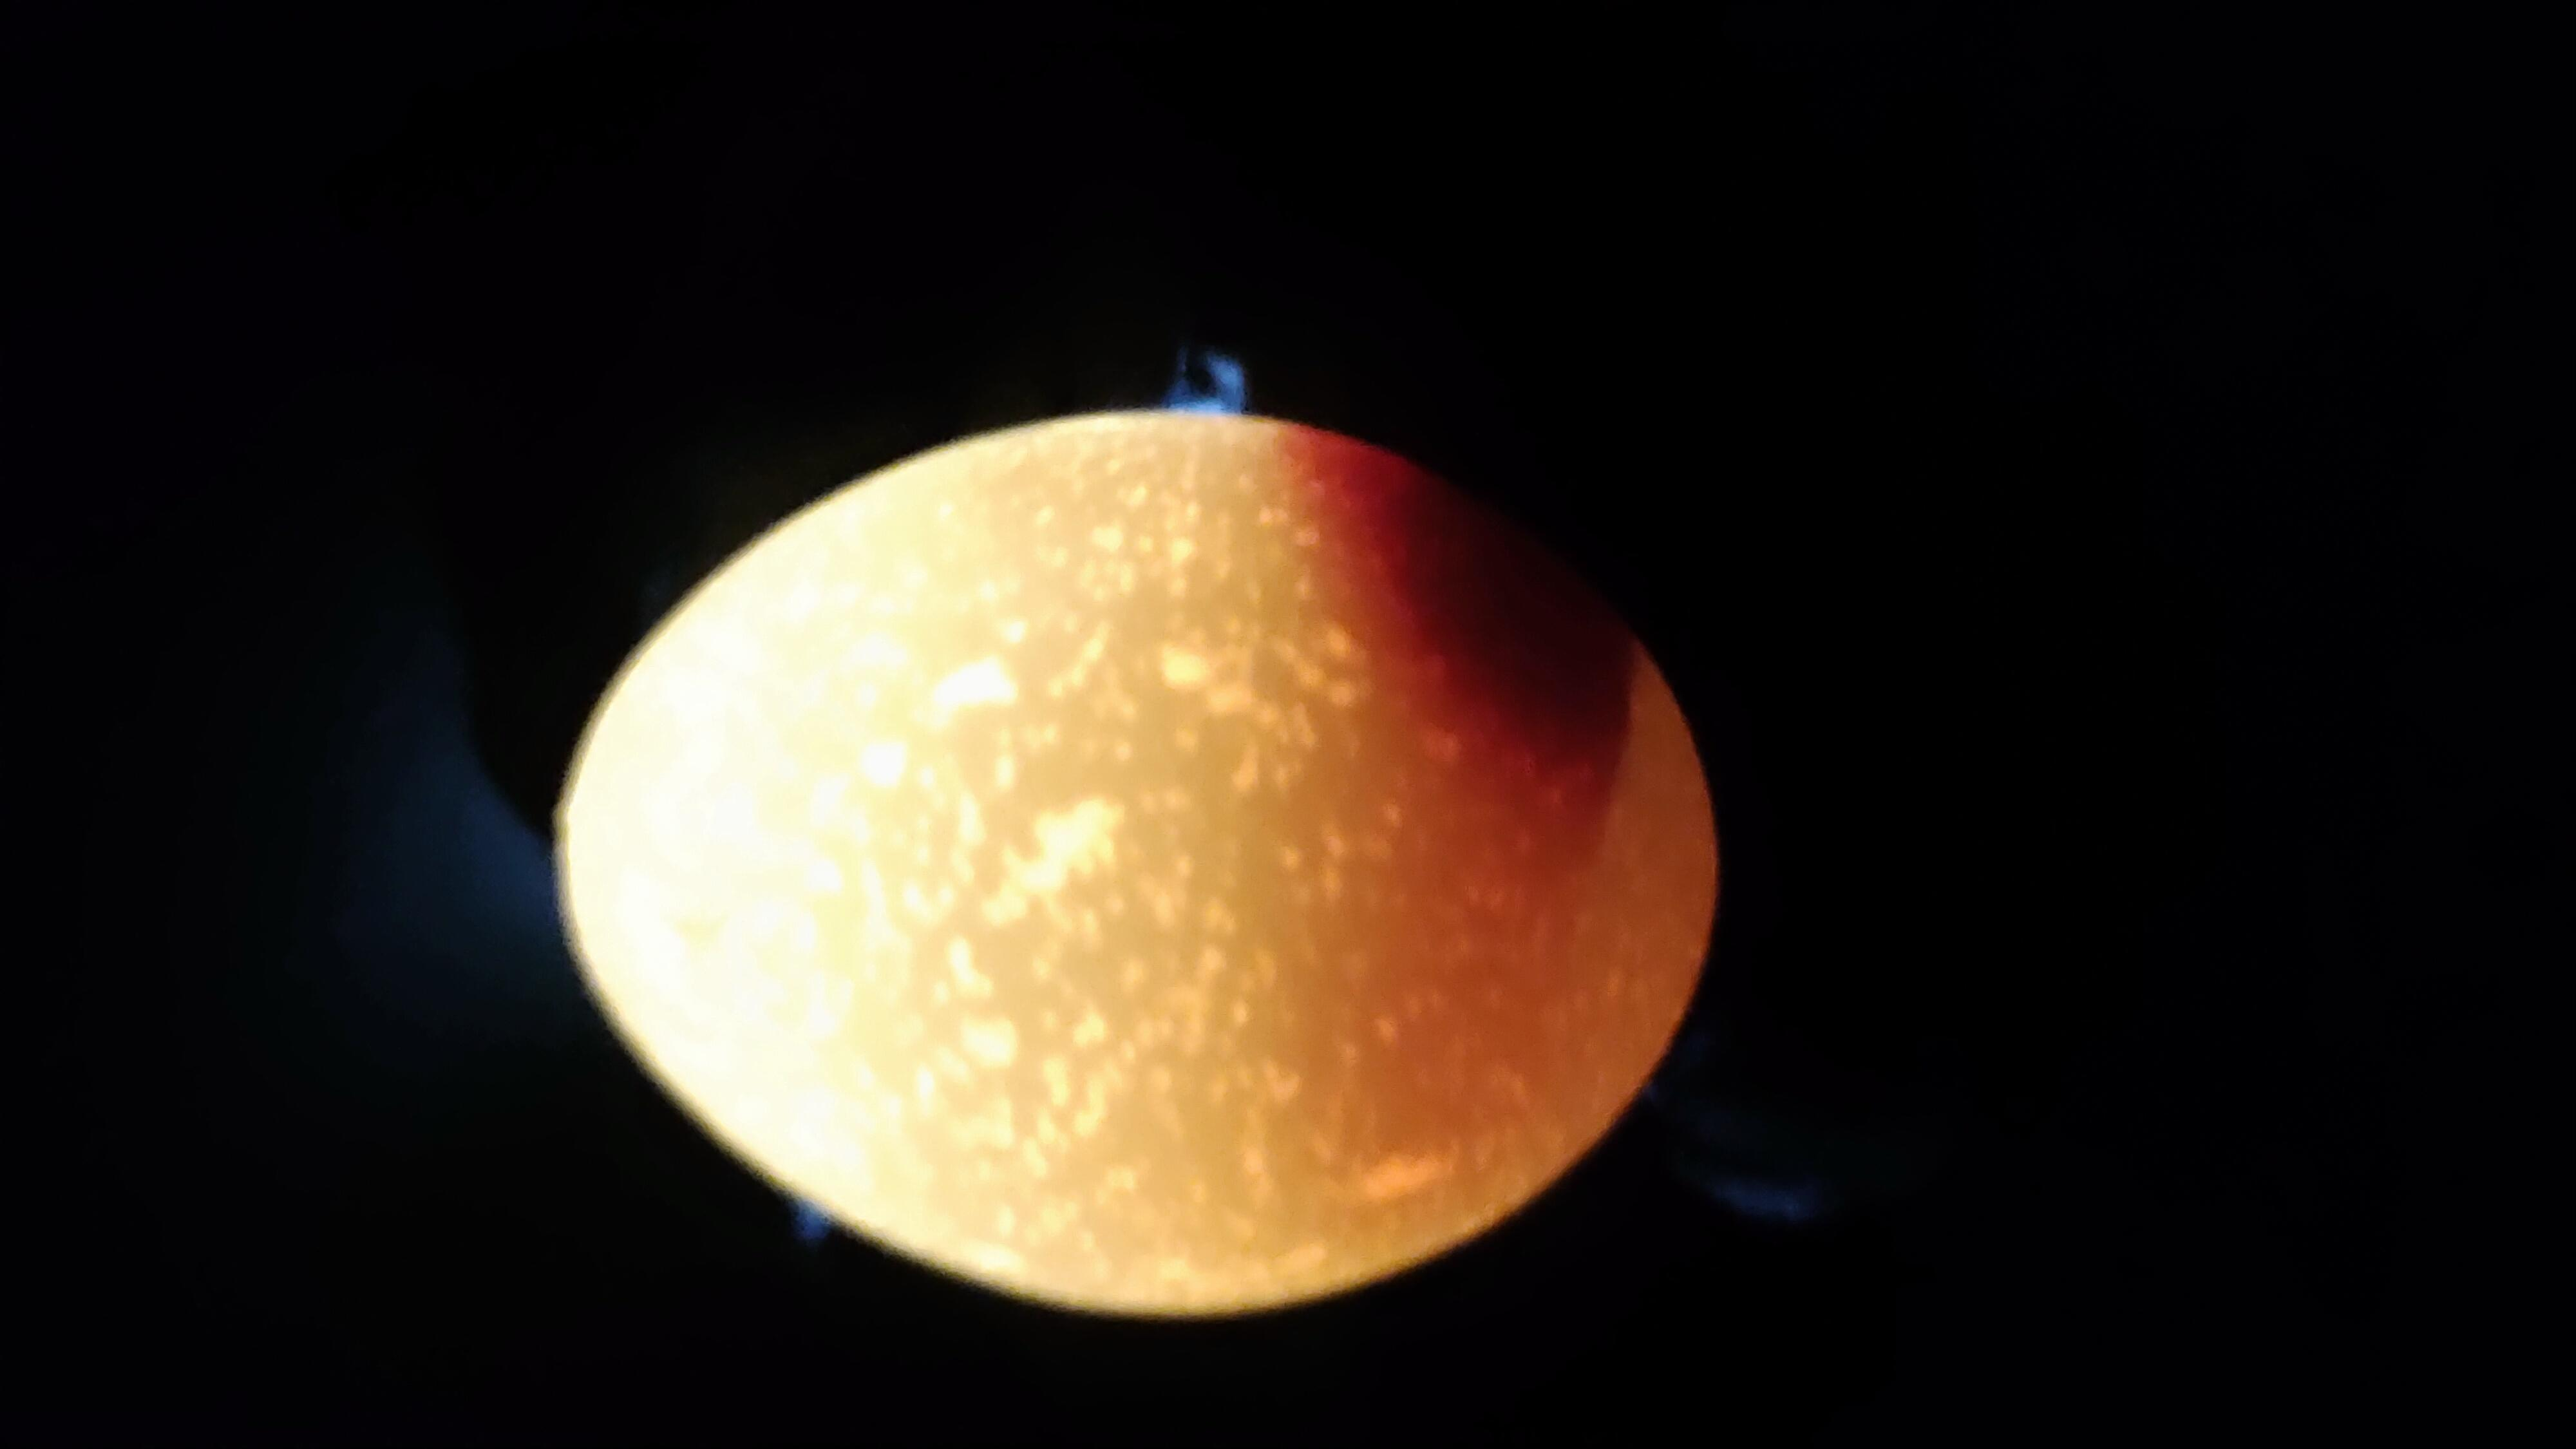AA - Premium: (228, 297, 1900, 993)
